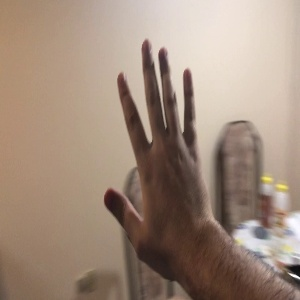hand: (105, 39, 211, 259)
